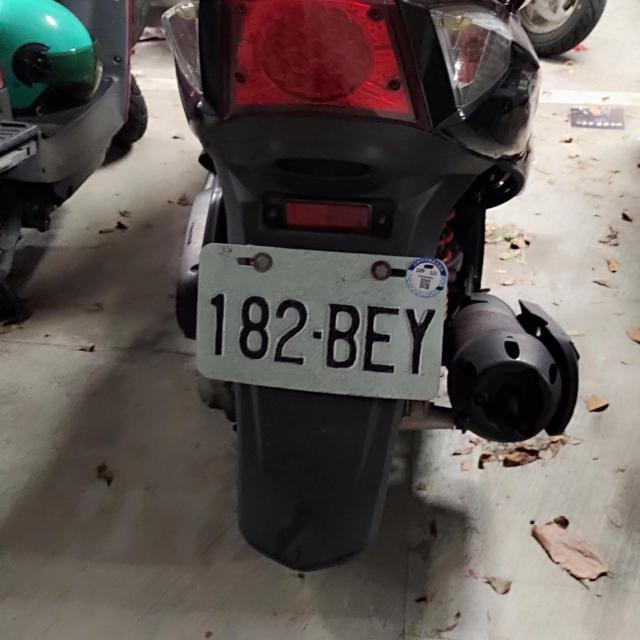W: (190, 237, 452, 402)
